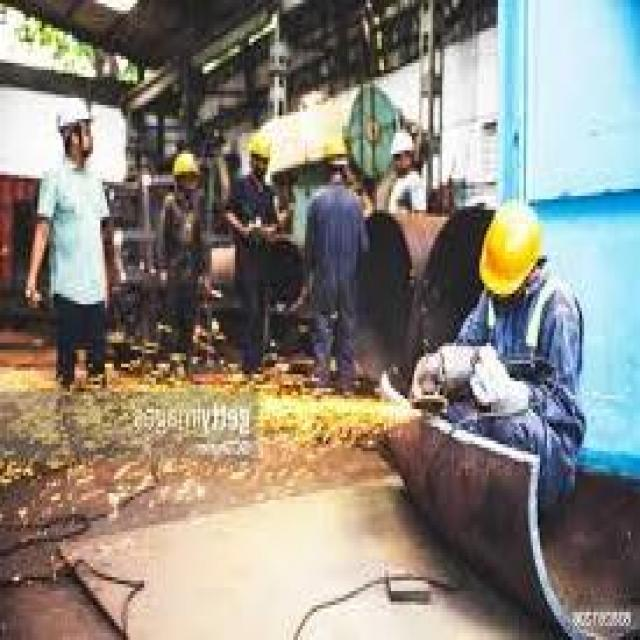safety_helmet: (470, 189, 556, 308), (49, 90, 100, 136), (242, 122, 279, 171), (384, 122, 421, 171), (167, 143, 204, 185)
